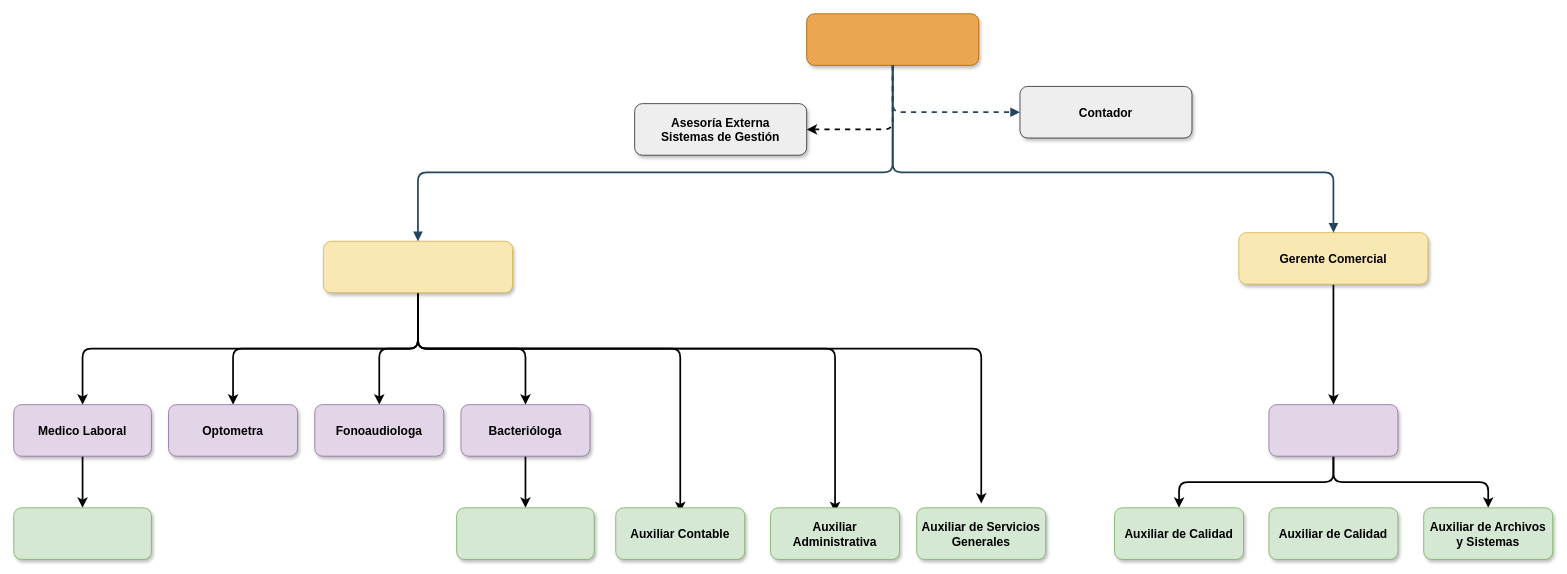
Image size: 1567x574. Some labels were removed from this diagram. Each missing label, with the centre of its shape:
"Auxiliar de Enfermería" belongs at pixel 83 534.
"Auxiliar de Laboratorio" belongs at pixel 525 534.
"Coordinador de Calidad" belongs at pixel 1334 431.
"Gerente General" belongs at pixel 418 268.
"Junta de Socios" belongs at pixel 893 40.
